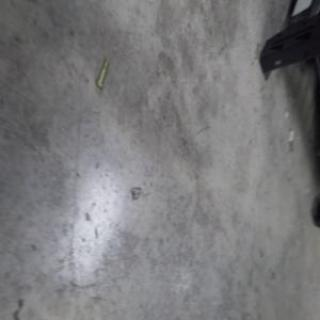Bolttrack_idkeyframe: (94, 56, 109, 92)
